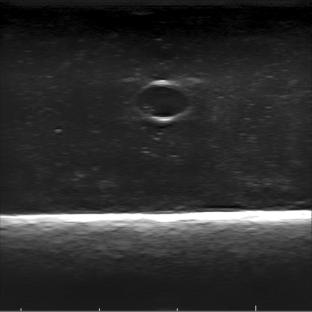vessel: (135, 79, 194, 122)
